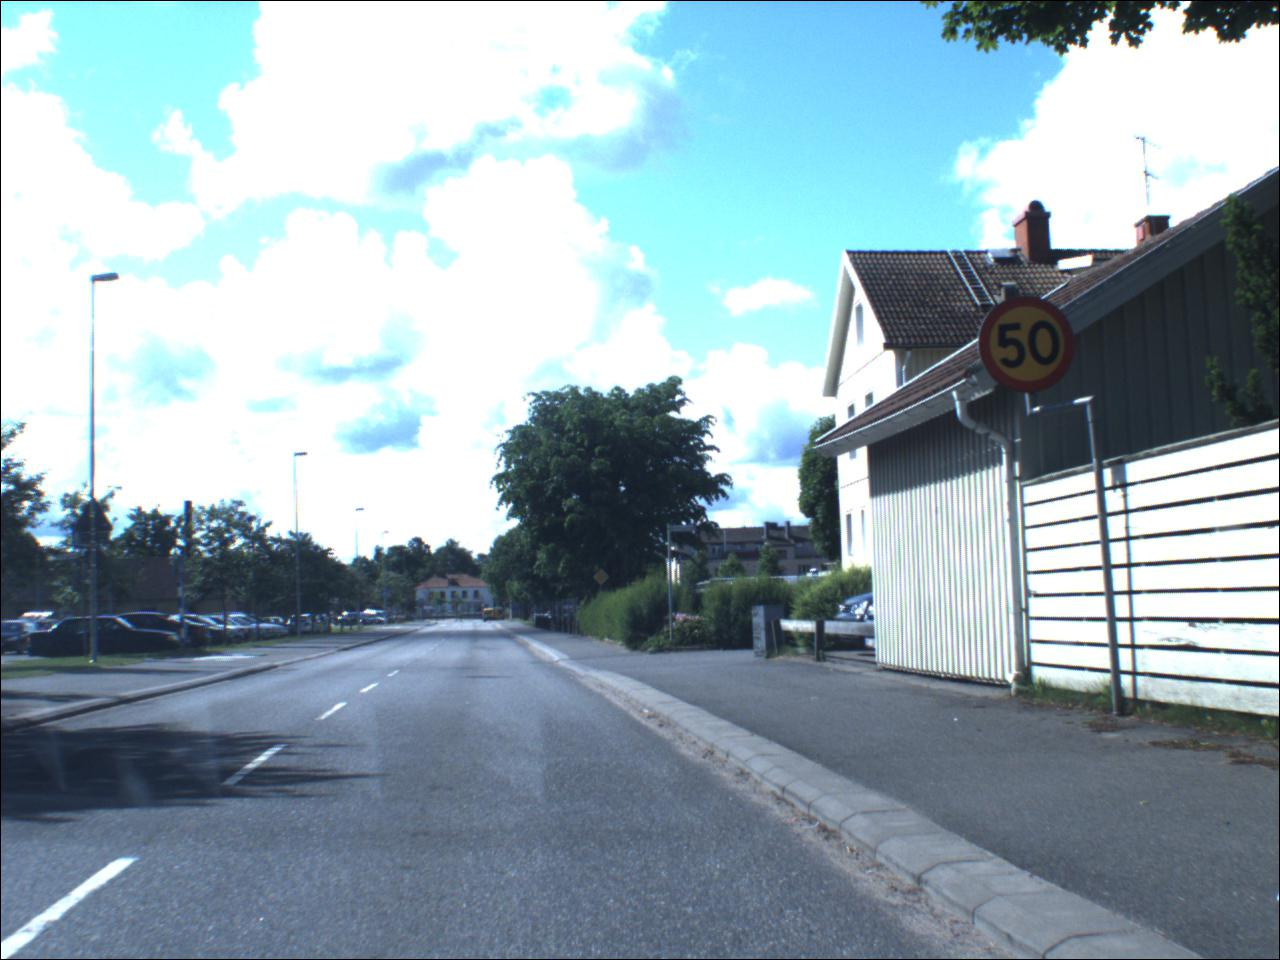50_SIGN: (979, 291, 1081, 397)
PRIORITY_ROAD: (594, 571, 613, 588)
